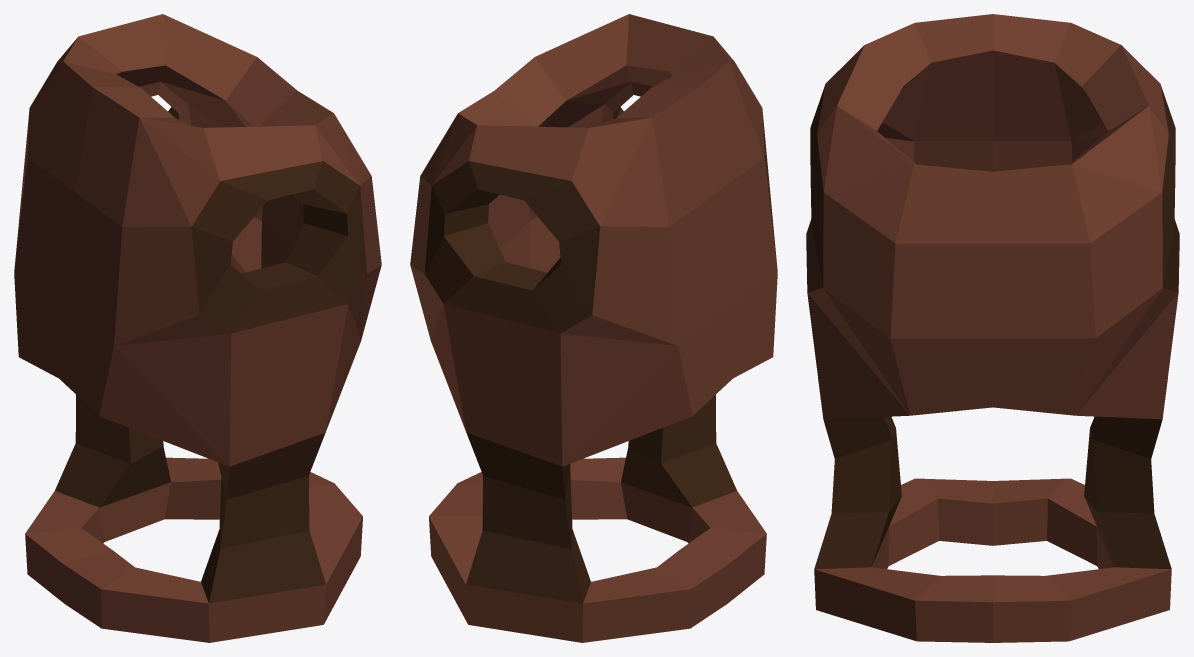
The model's file is Armor_Light.fbx.
3 views of the same model, side by side, from view 1: azimuth 30°, elevation 25°; view 2: azimuth 150°, elevation 25°; view 3: azimuth 270°, elevation 25° (orthographic). The views are drawn at different scales.
Parts seen in each view (by area): view 1: Cube.003; view 2: Cube.003; view 3: Cube.003.
Boxes of the visible parts, x1,y1,x2,y2 form: Cube.003: (14,14,381,642); Cube.003: (410,14,777,642); Cube.003: (806,14,1179,642).
Bounding box in the file's own units: 112 × 198 × 128.
